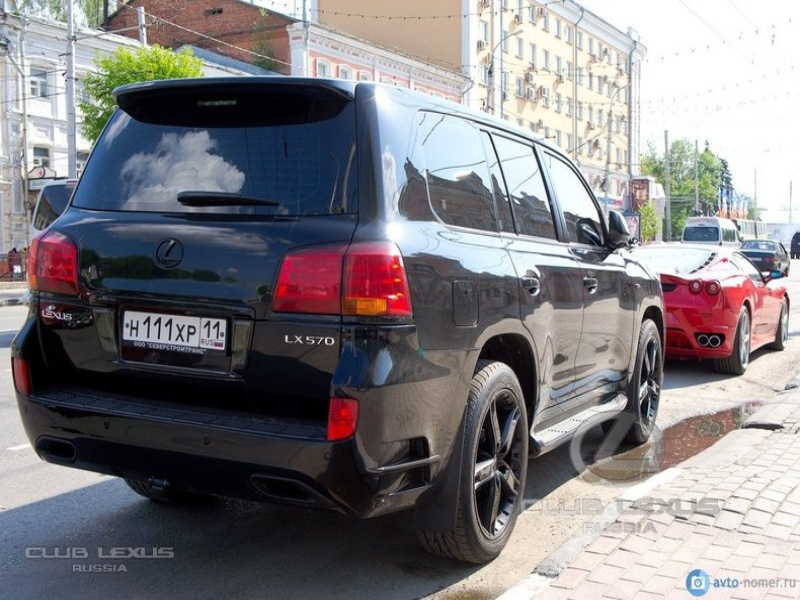car: (11, 78, 666, 563), (625, 242, 790, 374), (739, 239, 790, 277), (681, 216, 740, 243)
plate: (123, 310, 226, 350)
